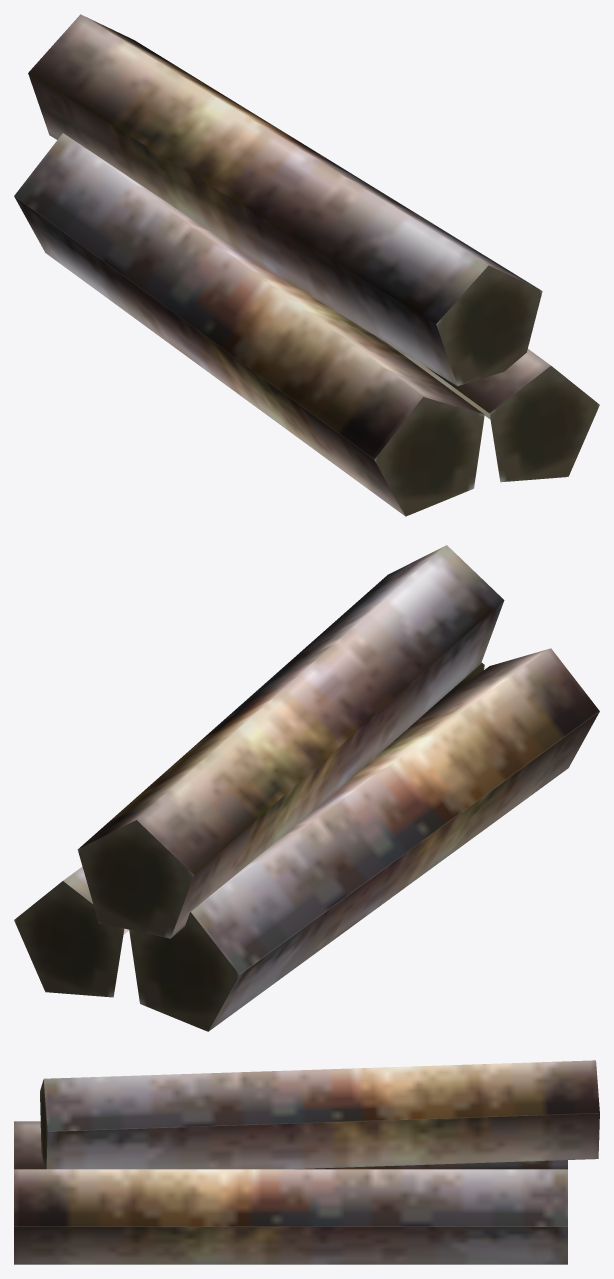
The model's file is Environment - Prop - CONSUP 03 - PMCONSUP03.glb.
The picture shows the model from 3 angles, top to bottom: view 1: azimuth 30°, elevation 25°; view 2: azimuth 150°, elevation 25°; view 3: azimuth 270°, elevation 25°; orthographic projection. The views are drawn at different scales.
Visible parts, largest first — view 1: PMCONSUP03; view 2: PMCONSUP03; view 3: PMCONSUP03.
Boxes of the visible parts, bbox=[...] form: PMCONSUP03: bbox=[14, 14, 599, 516]; PMCONSUP03: bbox=[14, 545, 599, 1031]; PMCONSUP03: bbox=[14, 1060, 599, 1264].
Size of the model in its own units: 4.38 by 3.94 by 12.82.
Materials: 1 (1 with a texture image).
